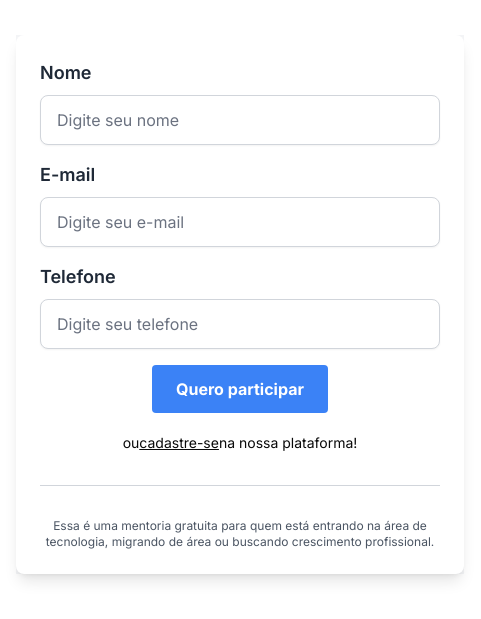
Test case: <MentoringPage /> › should display a single error message after submitting form with invalid email and name
The image size is (481, 619).
Click the button with test id "button-submit".
click(240, 388)  # box [152,364,328,412]
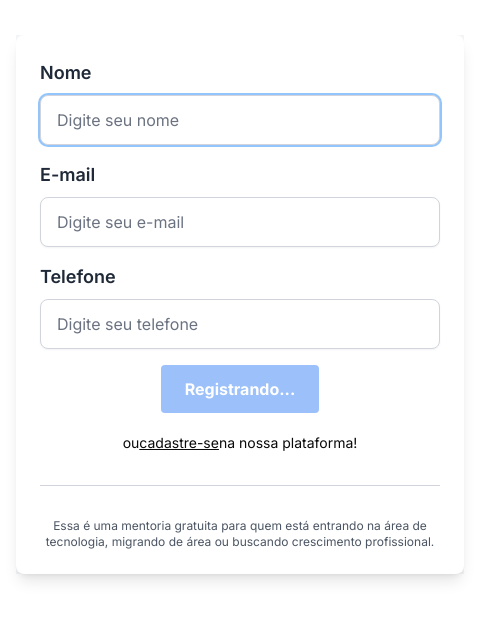
Expected: the form with test id "form-mentoring" is shown, [40,58,440,412]
Type "johndoe@example.com" into the field with id "email".
click(240, 222); type("johndoe@example.com")  # box [40,196,440,246]
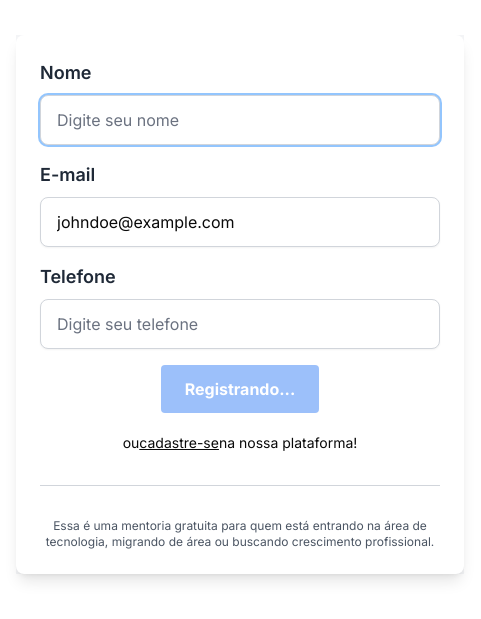
Type "John Doe" into the field with id "name".
click(240, 120); type("John Doe")  # box [40,94,440,144]
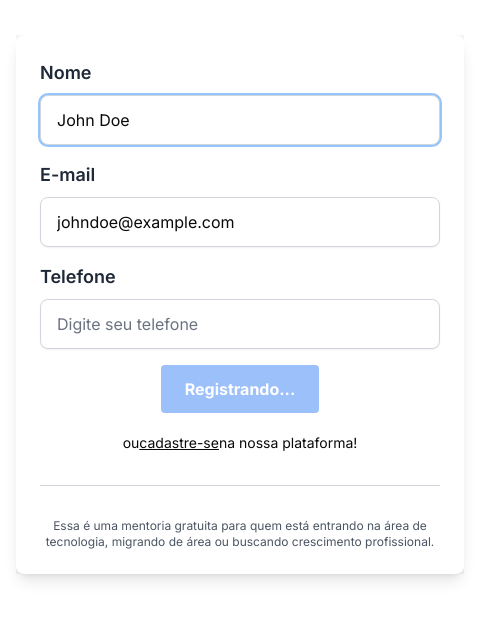
Click the button with test id "button-submit".
click(240, 388)  # box [161,364,319,412]
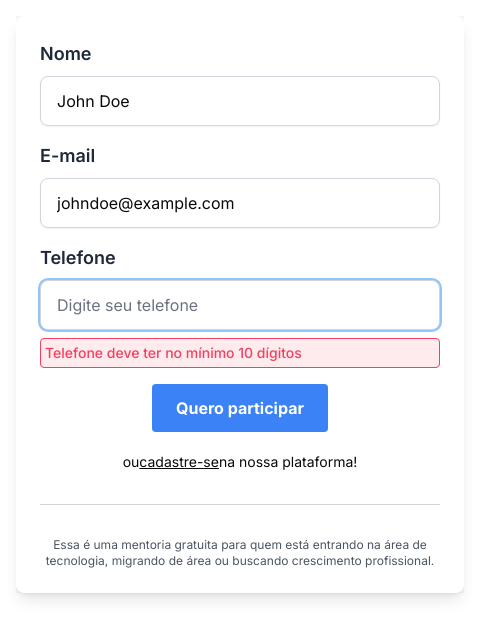
Expected: the form with test id "form-mentoring" is shown, [40,40,440,432]
Expected: the number of elements with test id "error-message" is 1, [45,344,302,360]
